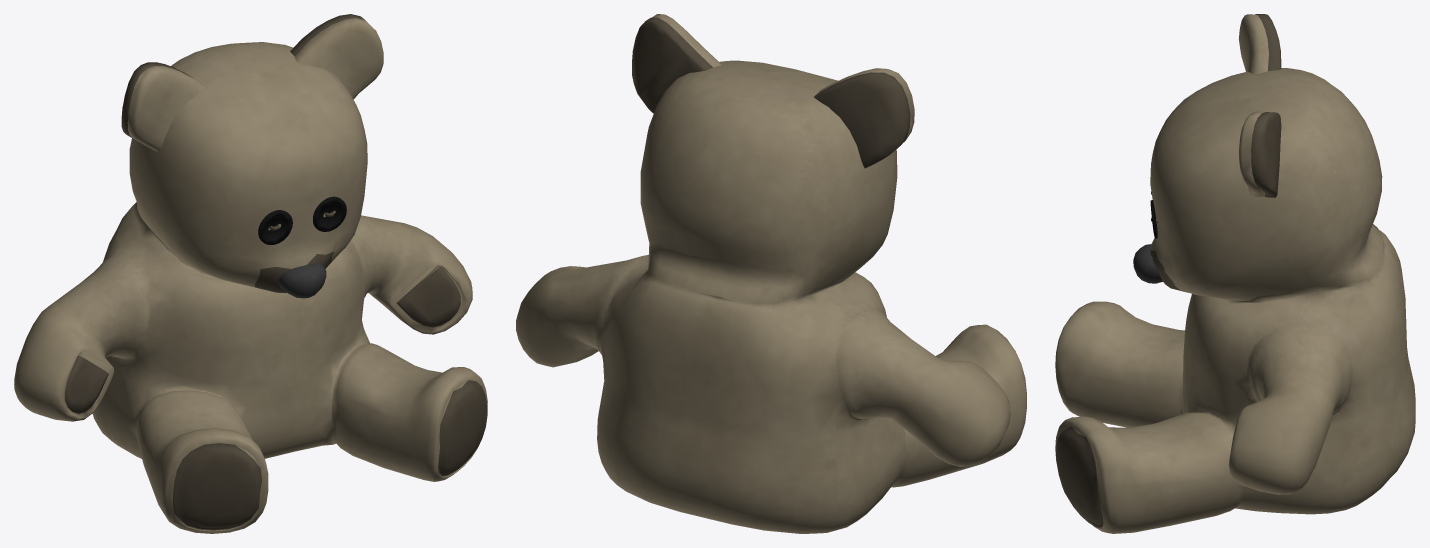
The model's file is teddy.glb.
3 renders of one model, left to right at view 1: azimuth 30°, elevation 25°; view 2: azimuth 150°, elevation 25°; view 3: azimuth 270°, elevation 25°, orthographic. The views are drawn at different scales.
Visible parts, largest first — view 1: burlap_teddy_bear; view 2: burlap_teddy_bear; view 3: burlap_teddy_bear.
Boxes of the visible parts, x1,y1,x2,y2 form: burlap_teddy_bear: (14,14,487,533); burlap_teddy_bear: (516,14,1026,533); burlap_teddy_bear: (1055,14,1415,533).
Bounding box in the file's own units: 42.72 × 37.3 × 29.99.
1 material, 1 textured.
